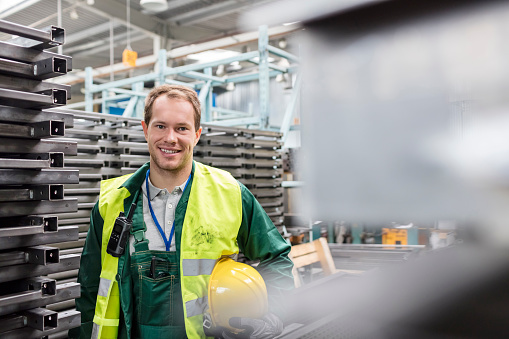em pe: (78, 80, 274, 339)
